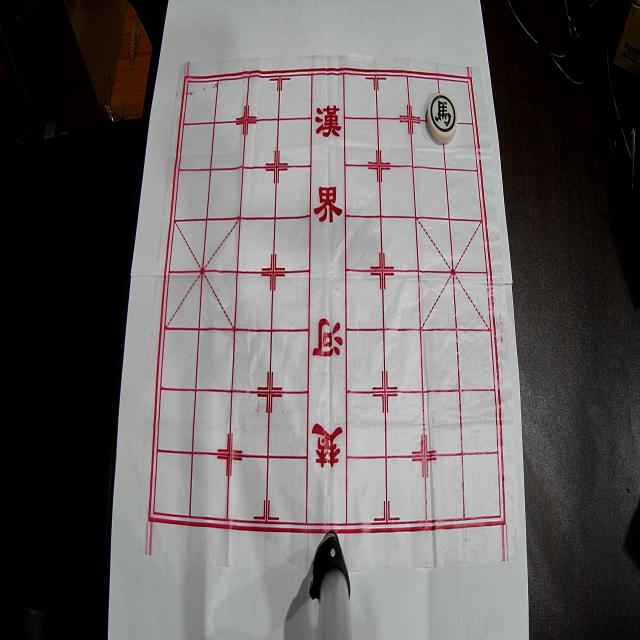black-horse: (427, 94, 458, 144)
